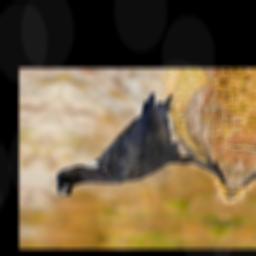Crow: (50, 86, 251, 211)
